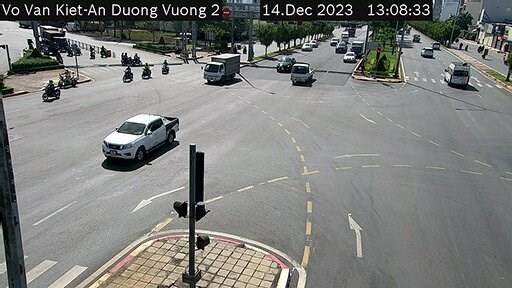car: (103, 110, 179, 167), (444, 61, 473, 85), (280, 55, 293, 73), (344, 51, 355, 63)
motorbike: (37, 83, 61, 102), (140, 63, 158, 80), (118, 65, 128, 83), (162, 57, 170, 76)
truck: (200, 53, 250, 86), (293, 61, 315, 88)
